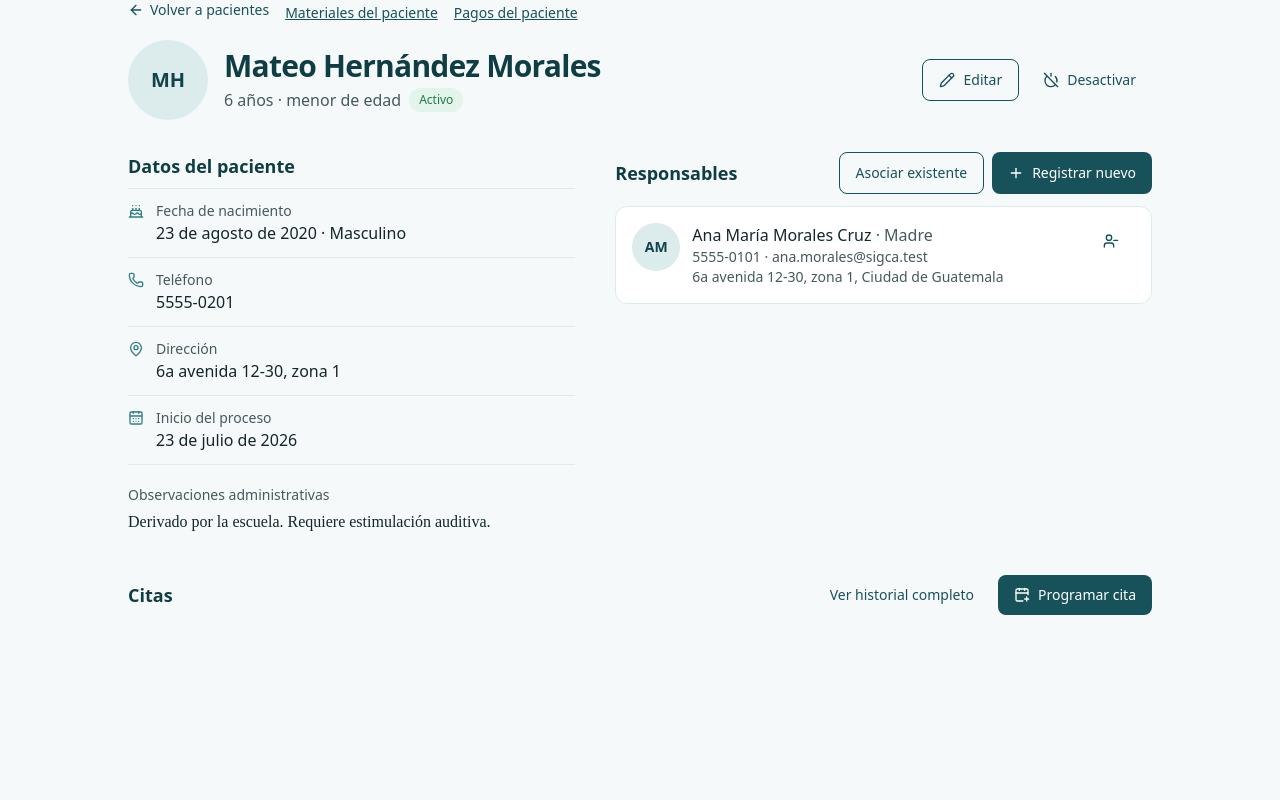
Test: Ficha del paciente › quitar al único responsable de un menor advierte que quedará sin responsable
The width and height of the screenshot is (1280, 800).
Click the button named "Quitar a Ana María Morales Cruz como responsable": (1111, 241) [1087,223,1135,259]
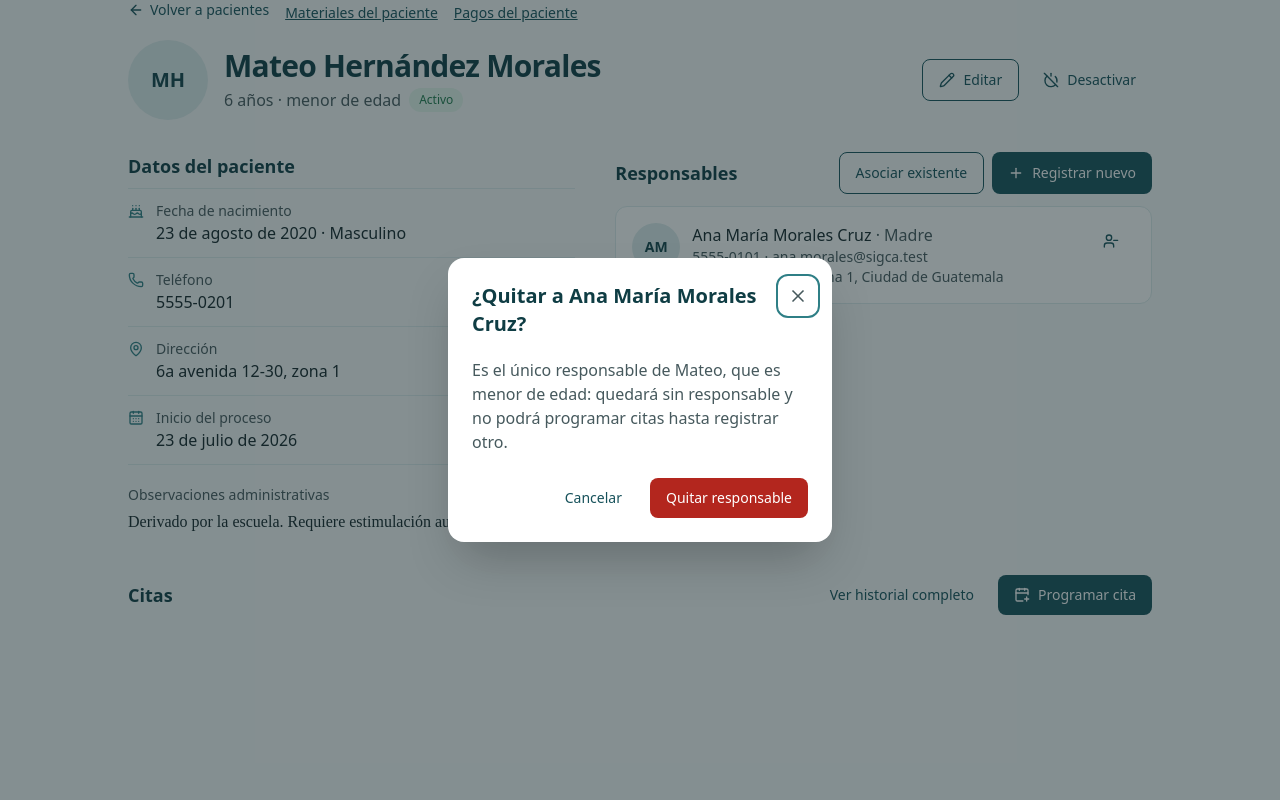
expect the text "no podrá programar citas hasta registrar otro" is shown: met, box [472,359,793,453]
Click the button "Quitar responsable": (729, 498) [650,478,808,518]
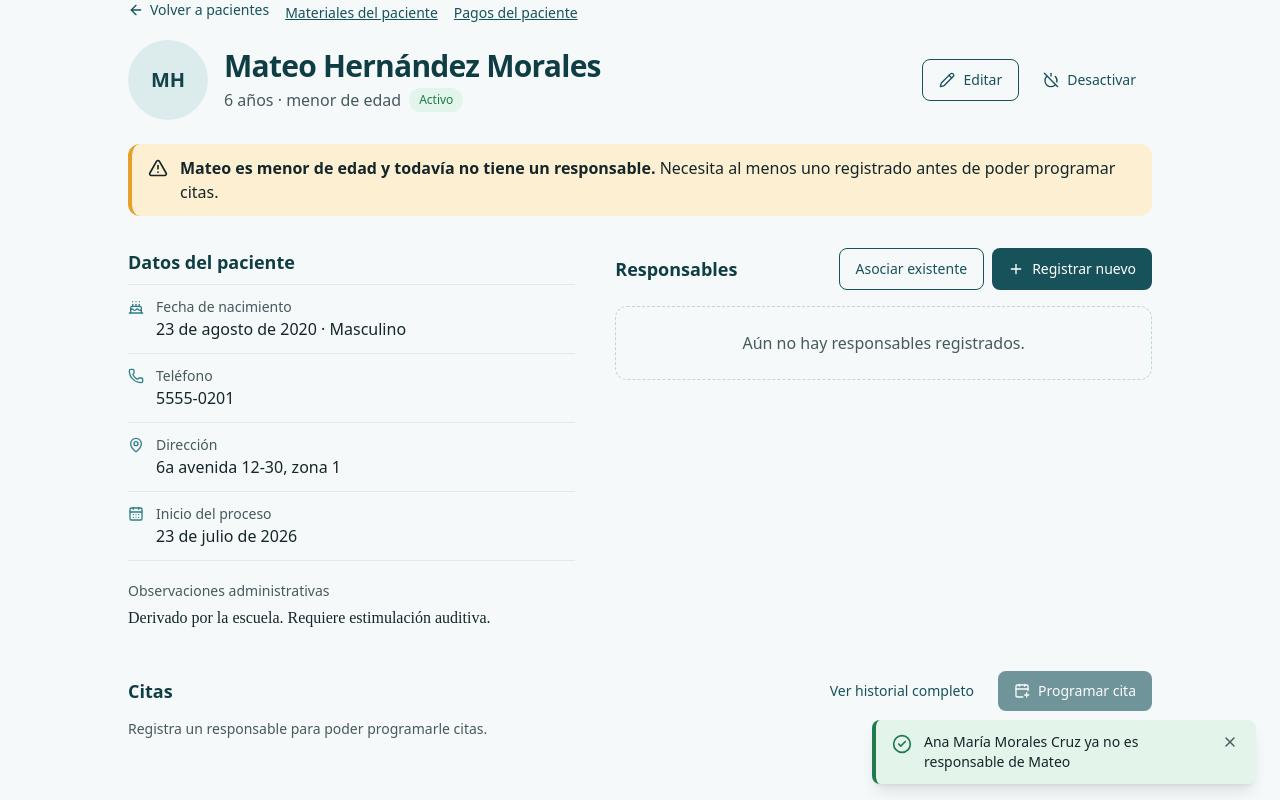
expect the text "Ana María Morales Cruz ya no es responsable de Mateo" is shown: met, box [924,732,1138,771]
expect the message that starts with "Mateo" shows "Mateo es menor de edad y todavía no tiene un responsable": met, box [128,144,1152,216]
